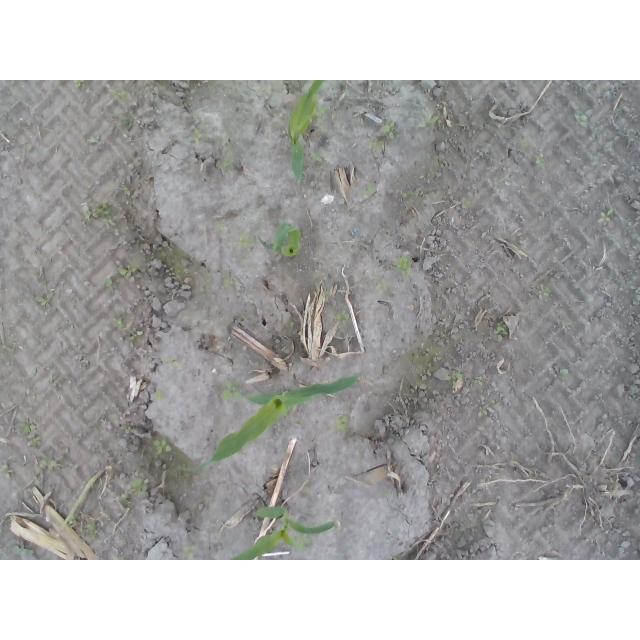Maize: (192, 374, 361, 475), (229, 502, 338, 560), (286, 80, 324, 186), (257, 222, 302, 259)
Weeds: (15, 415, 41, 445), (391, 255, 414, 282), (81, 207, 113, 225), (35, 455, 62, 474), (117, 263, 146, 280), (222, 377, 243, 400), (150, 437, 175, 456), (416, 111, 441, 129), (33, 288, 55, 307), (382, 119, 398, 142), (595, 207, 614, 225), (131, 479, 150, 497), (366, 136, 386, 152), (111, 88, 130, 104), (335, 415, 351, 434), (239, 230, 257, 246), (1, 463, 16, 481), (112, 493, 131, 507), (400, 192, 420, 205), (444, 370, 464, 383), (361, 183, 378, 198), (574, 112, 589, 129), (335, 309, 354, 322), (128, 327, 145, 341), (87, 520, 98, 541), (536, 283, 552, 297), (162, 357, 182, 368), (375, 279, 393, 291), (191, 127, 202, 145), (15, 545, 33, 556), (495, 321, 509, 335), (173, 268, 189, 280), (222, 157, 234, 172), (102, 275, 114, 290), (153, 389, 168, 401), (182, 545, 194, 560), (535, 153, 545, 170), (297, 535, 312, 546), (0, 343, 16, 353), (472, 374, 485, 386), (121, 112, 130, 129), (67, 512, 79, 524), (519, 139, 529, 153), (477, 406, 488, 418), (311, 151, 322, 162), (110, 554, 130, 560), (561, 319, 576, 327), (463, 198, 473, 209), (115, 319, 125, 330), (224, 276, 233, 288), (176, 464, 188, 473), (323, 287, 333, 297), (119, 184, 130, 193), (560, 367, 569, 377), (72, 80, 81, 89), (255, 361, 265, 369), (87, 137, 98, 144), (216, 223, 225, 231), (391, 556, 401, 561)
